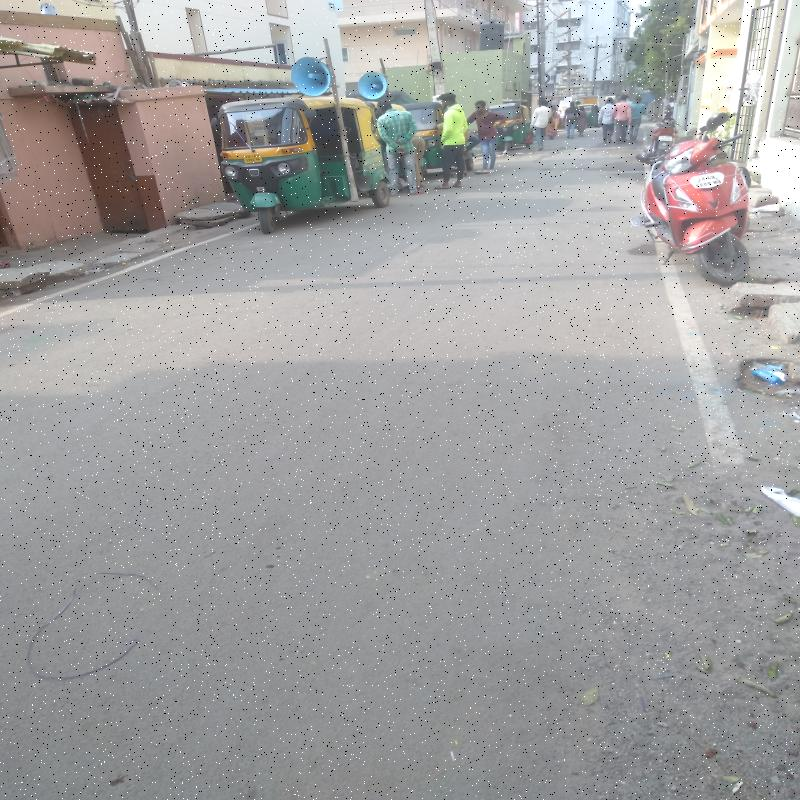auto: (234, 102, 388, 226)
